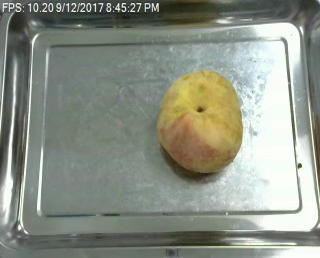Peach: (157, 69, 243, 172)
